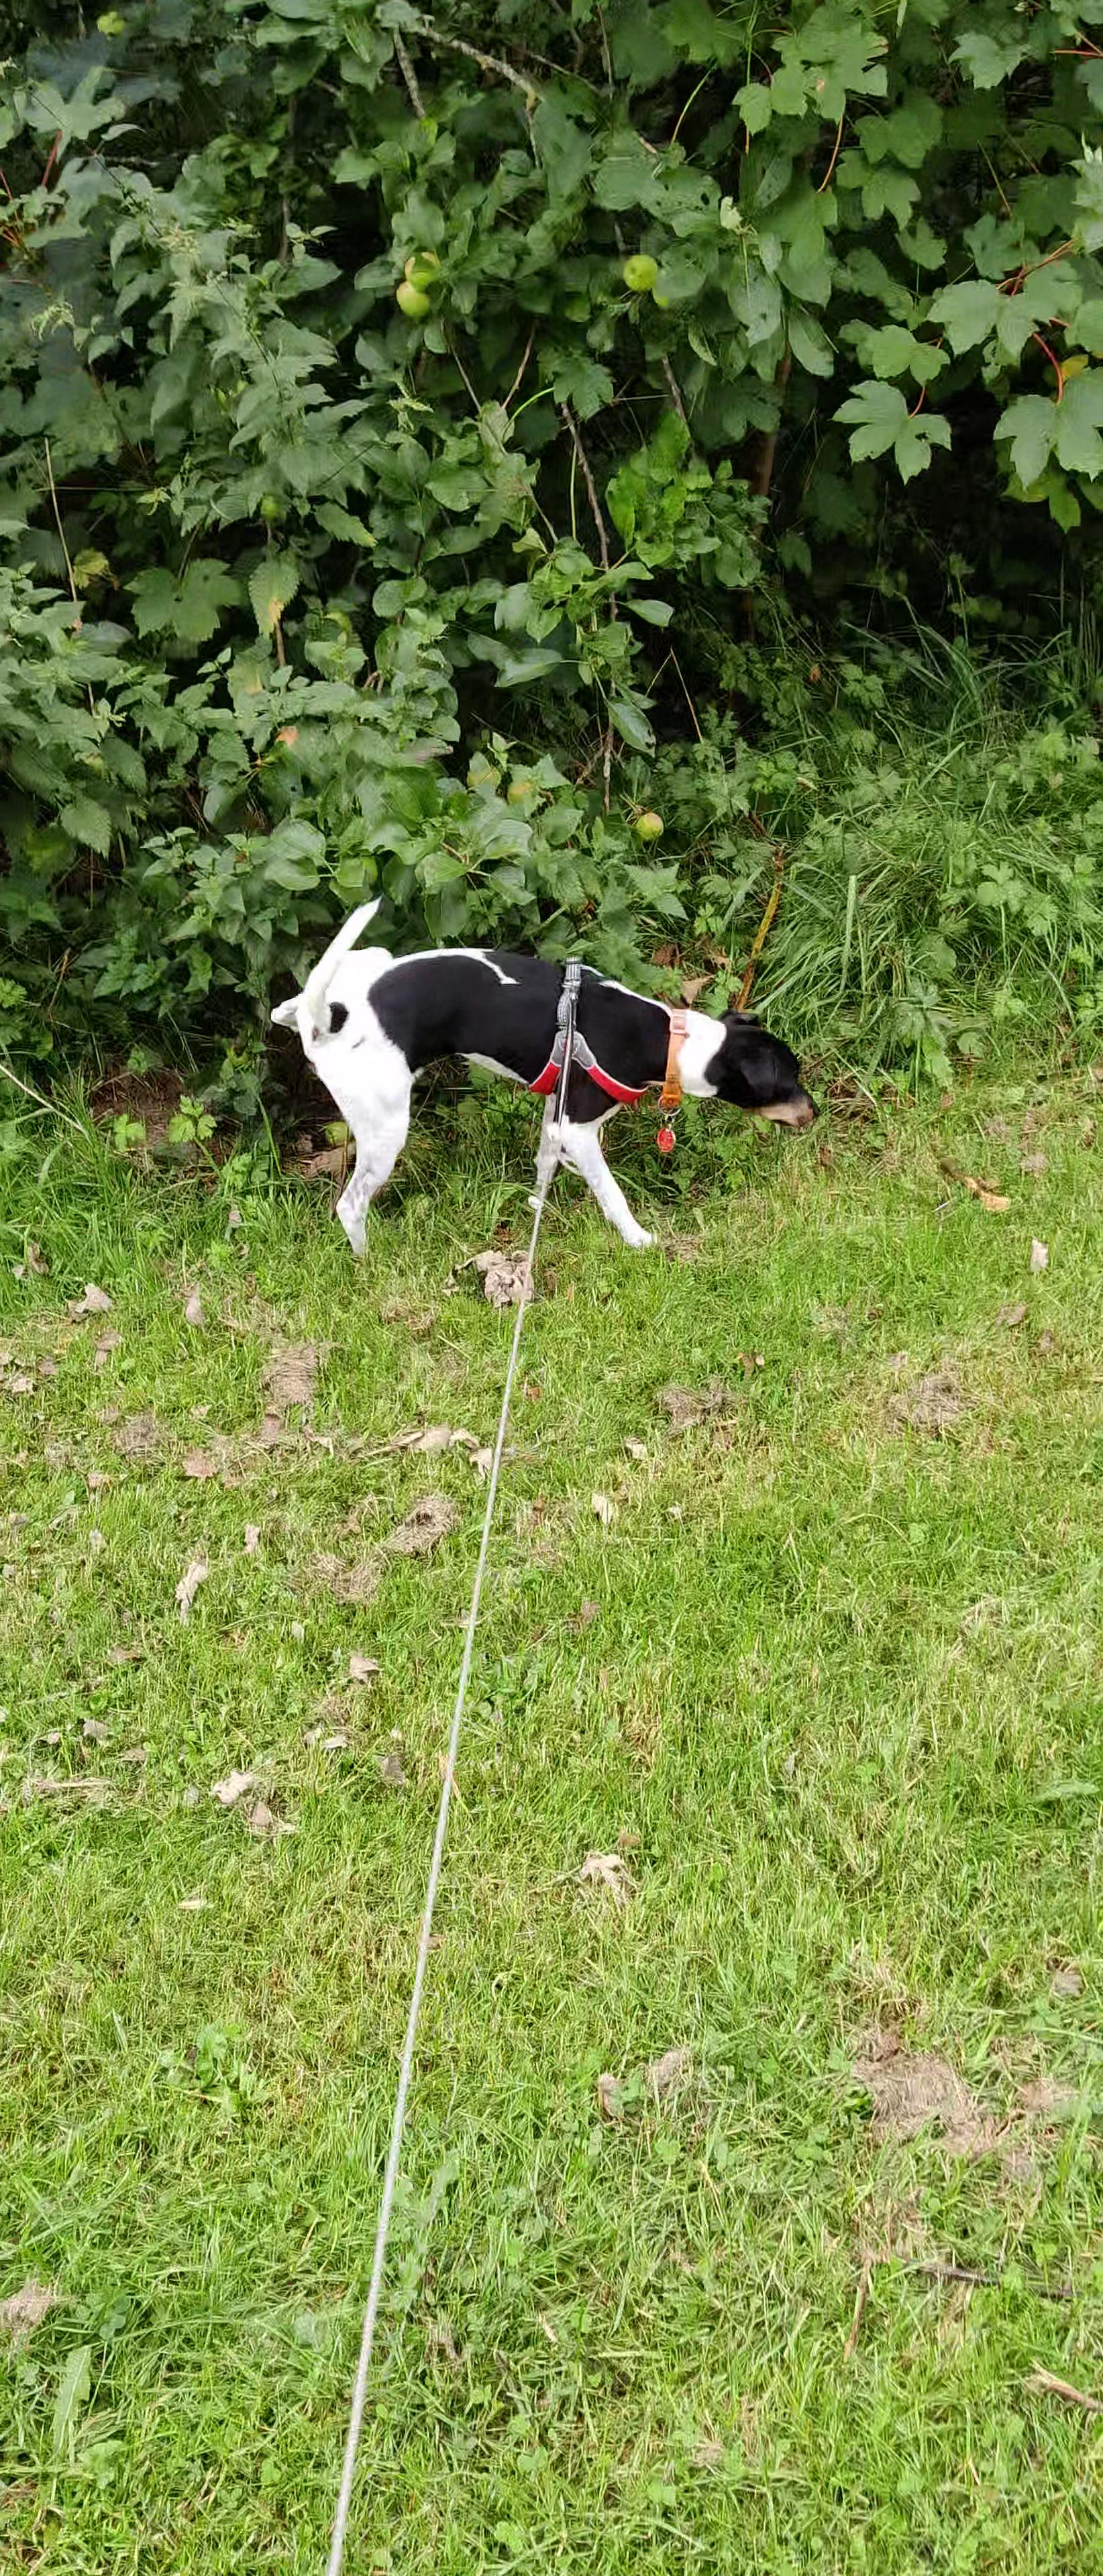Dog: (242, 874, 847, 1267)
